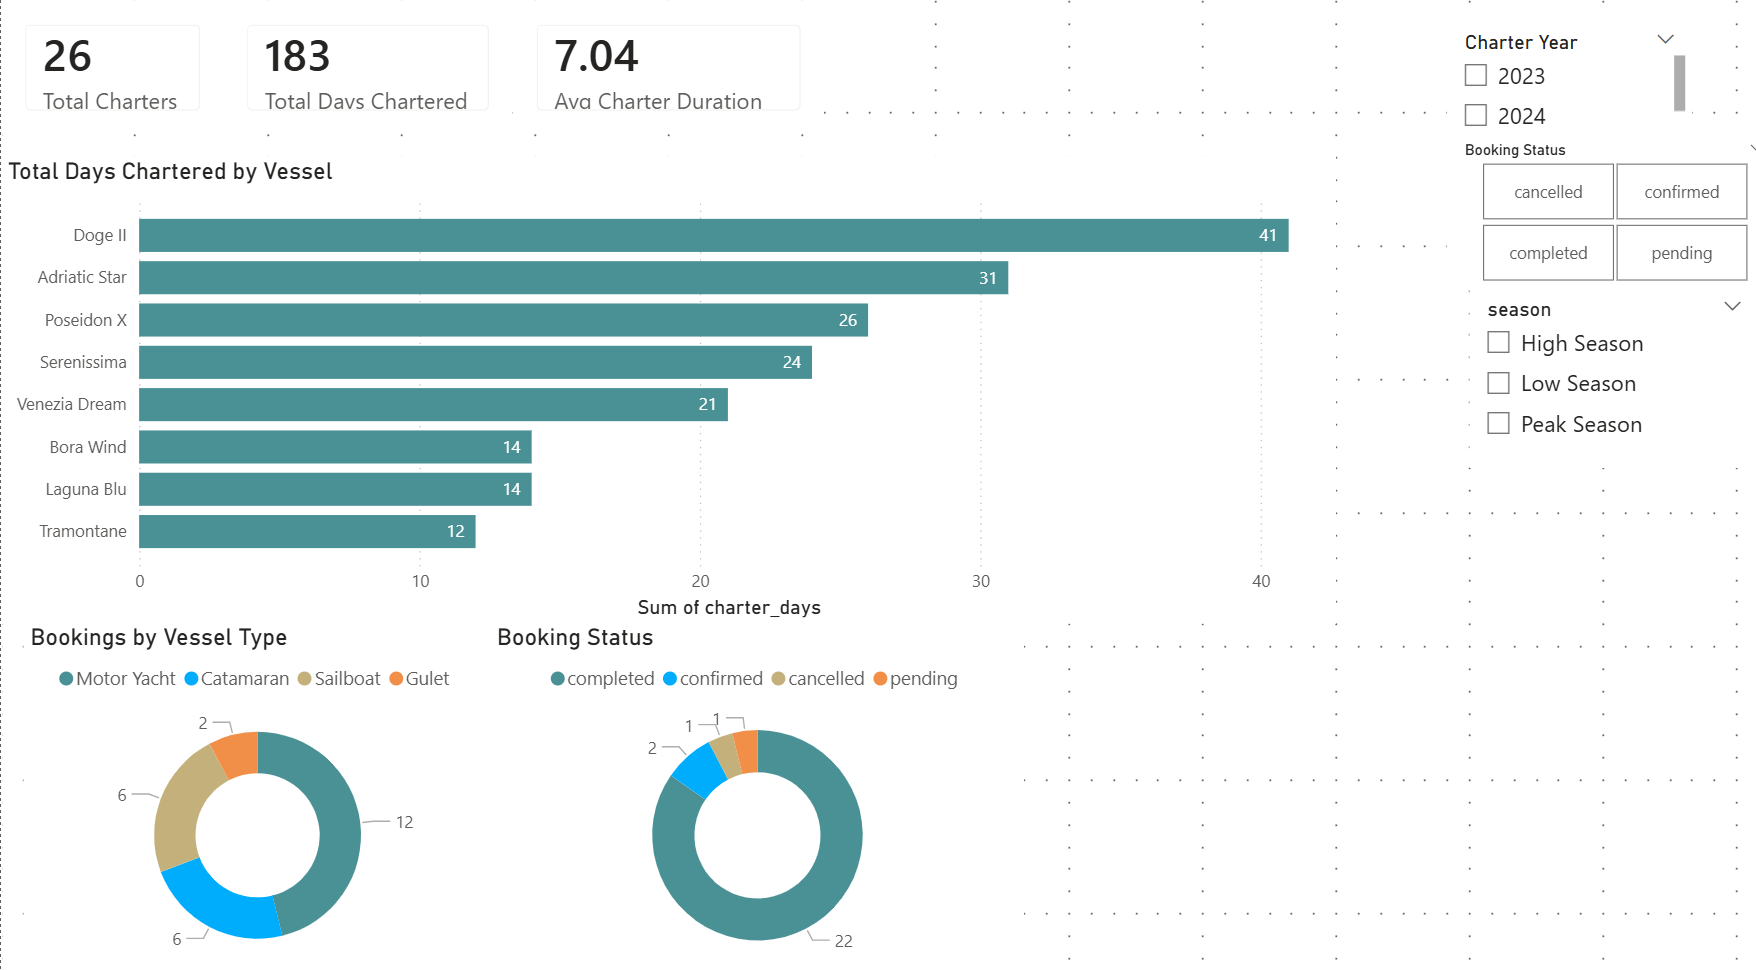

What the dashboard file says about the page in this screenshot:
{"tool":"powerbi","page":{"name":"Fleet Operations","canvas":[1280,720],"ordinal":1},"visuals":[{"type":"cardVisual","fields":{"Data":["CountNonNull(public vw_bookings_master.booking_id)"]},"box":[0,16,160,96],"z":0},{"type":"cardVisual","fields":{"Data":["Sum(public vw_bookings_master.charter_days)"]},"box":[160,16,208,96],"z":1000},{"type":"cardVisual","fields":{"Data":["Avg(public vw_bookings_master.charter_days)"]},"box":[368,16,224,96],"z":2000},{"type":"clusteredBarChart","title":"Total Days Chartered by Vessel","fields":{"Category":["public vw_bookings_master.vessel_name"],"Y":["Sum(public vw_bookings_master.charter_days)"]},"box":[0,128,960,336],"z":3000},{"type":"donutChart","title":"Bookings by Vessel Type","fields":{"Category":["public vw_bookings_master.vessel_type"],"Y":["CountNonNull(public vw_bookings_master.booking_id)"]},"box":[16,464,336,256],"z":4000},{"type":"donutChart","title":"Booking Status","fields":{"Category":["public vw_bookings_master.booking_status"],"Y":["CountNonNull(public vw_bookings_master.booking_id)"]},"box":[352,464,384,256],"z":5000},{"type":"slicer","fields":{"Values":["public vw_bookings_master.charter_year"]},"box":[1040,32,176,80],"z":6000},{"type":"slicer","fields":{"Values":["public vw_bookings_master.booking_status"]},"box":[1040,112,240,112],"z":7000},{"type":"slicer","fields":{"Values":["public vw_bookings_master.season"]},"box":[1056,224,208,128],"z":8000}]}

Visuals, with their boxes in screenshot pixels (x1, y1, x2, y2), scaled from the page's 1280x720 canvas onto the 1756x970 screenshot:
cardVisual - CountNonNull(public vw_bookings_master.booking_id): 0:22:220:151
cardVisual - Sum(public vw_bookings_master.charter_days): 220:22:505:151
cardVisual - Avg(public vw_bookings_master.charter_days): 505:22:812:151
"Total Days Chartered by Vessel" clusteredBarChart: 0:172:1317:625
"Bookings by Vessel Type" donutChart: 22:625:483:969
"Booking Status" donutChart: 483:625:1010:969
slicer - public vw_bookings_master.charter_year: 1427:43:1668:151
slicer - public vw_bookings_master.booking_status: 1427:151:1755:302
slicer - public vw_bookings_master.season: 1449:302:1734:474
